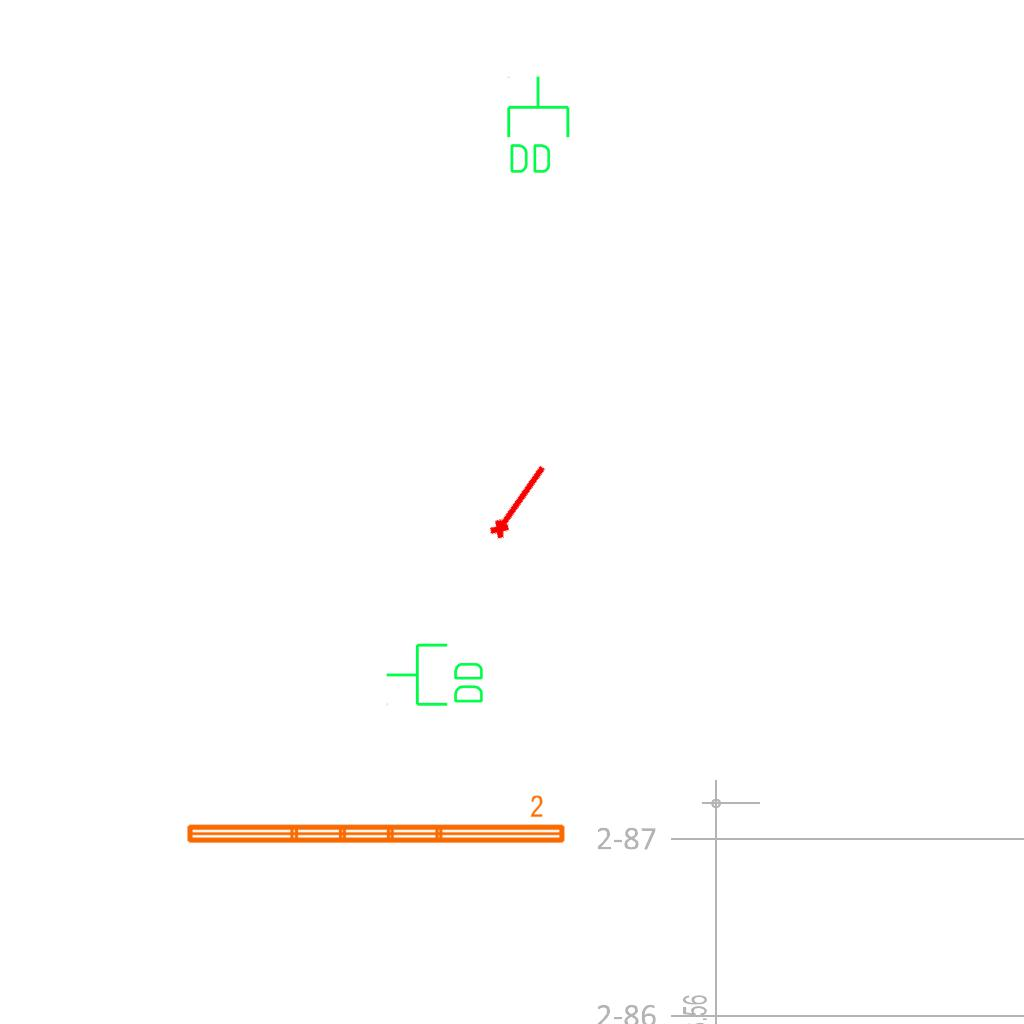ASR_Ansaugoeffnung: (483, 457, 553, 544)
Ambulanz_Pendelleuchte_LED: (182, 793, 569, 849)
Datenanschluss_zweifach: (384, 641, 487, 710), (503, 74, 572, 177)
